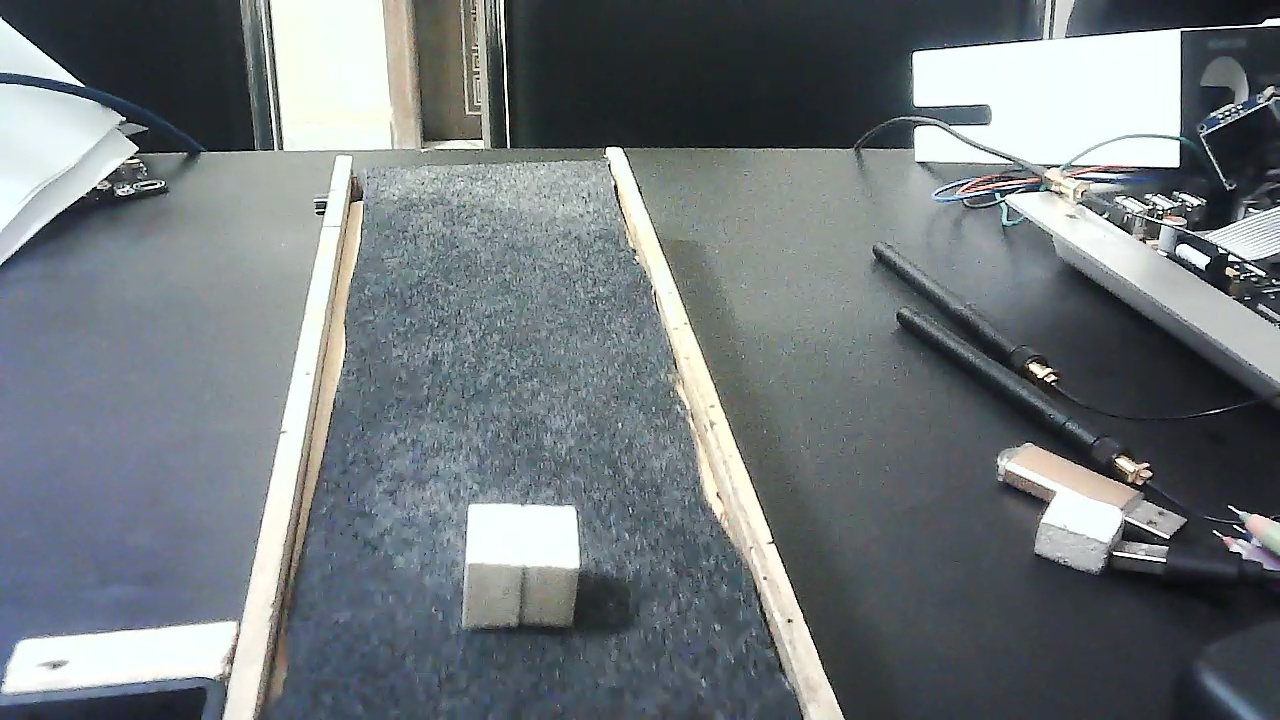Small: (460, 501, 586, 627)
